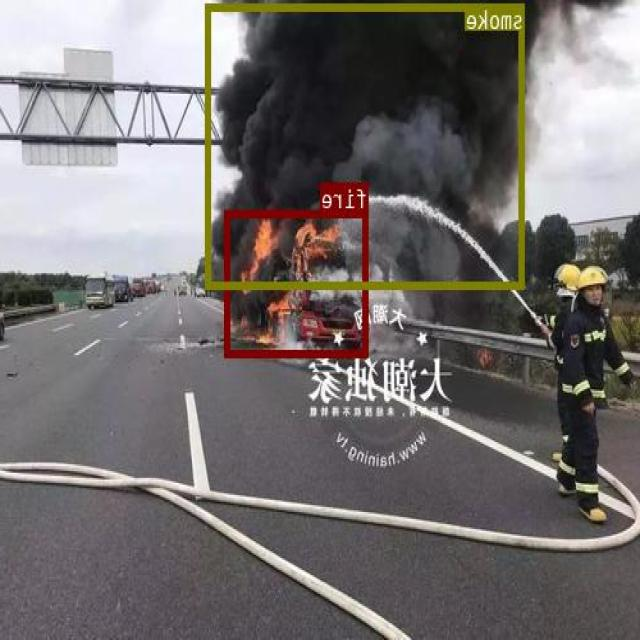fire: (226, 210, 369, 355)
smoke: (207, 2, 525, 287)
